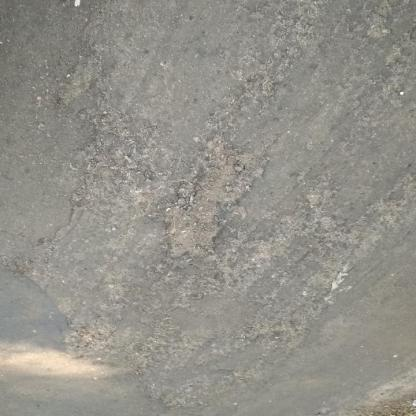pothole: (160, 144, 271, 266)
